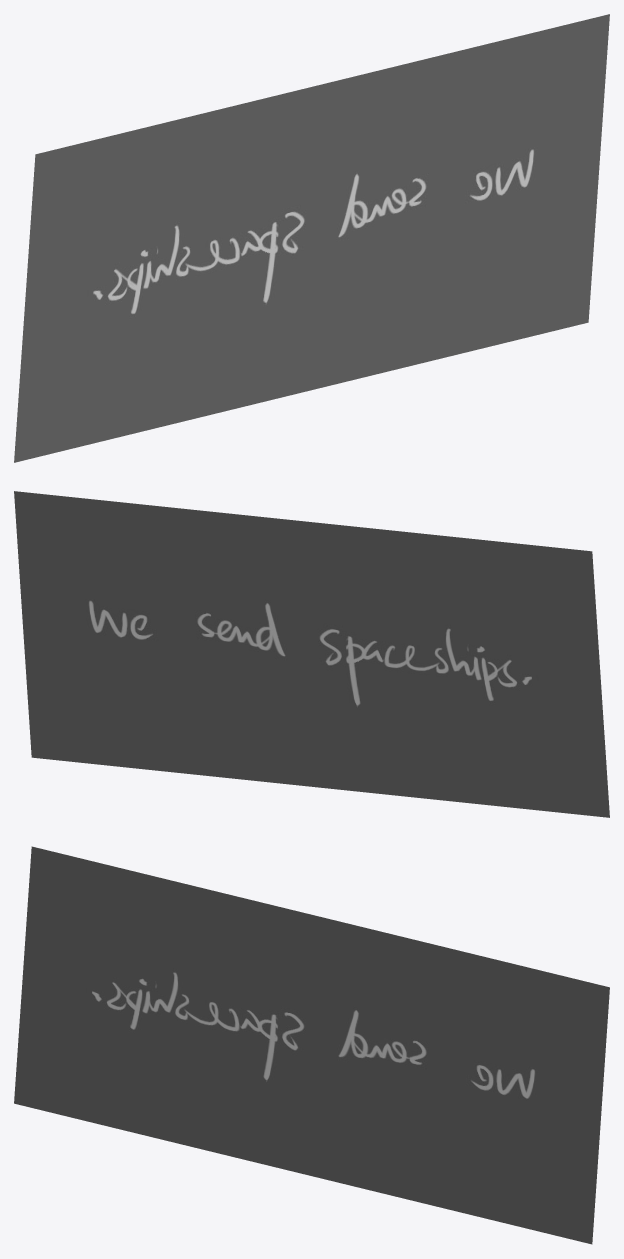
The picture shows the model from 3 angles, top to bottom: view 1: azimuth 30°, elevation 25°; view 2: azimuth 150°, elevation 25°; view 3: azimuth 330°, elevation 25°; orthographic projection. The views are drawn at different scales.
Visible parts, largest first — view 1: Plane.013; view 2: Plane.013; view 3: Plane.013.
Part boxes in pixels (x1,y1,x2,y2): Plane.013: [14, 14, 609, 462]; Plane.013: [14, 491, 609, 817]; Plane.013: [14, 846, 609, 1244].
Size of the model in its own units: 2.68 by 1.39 by 0.3497.
1 material, 1 textured.
